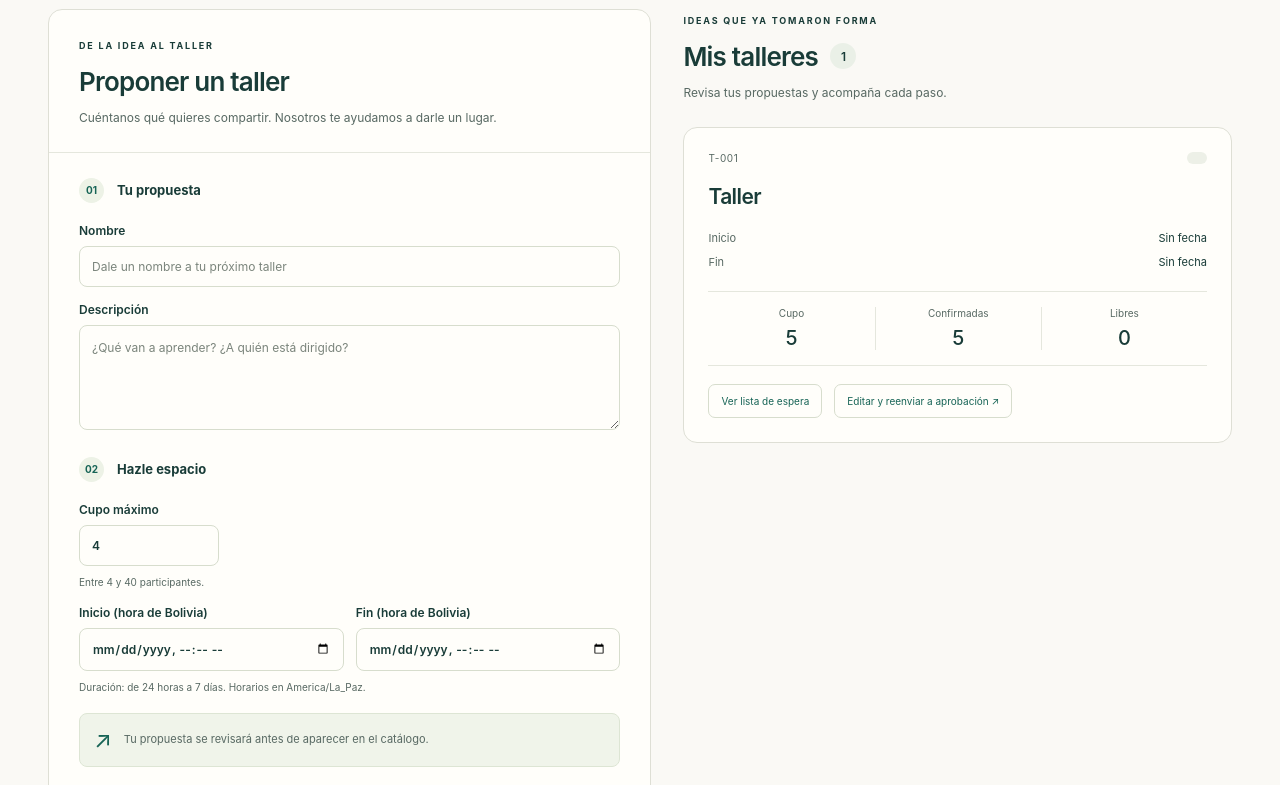
Test: instructor consulta participantes en espera de su taller
(page scrolled)
Click the button "Ver lista de espera" at coordinates (765, 400), box [708,384,822,418]
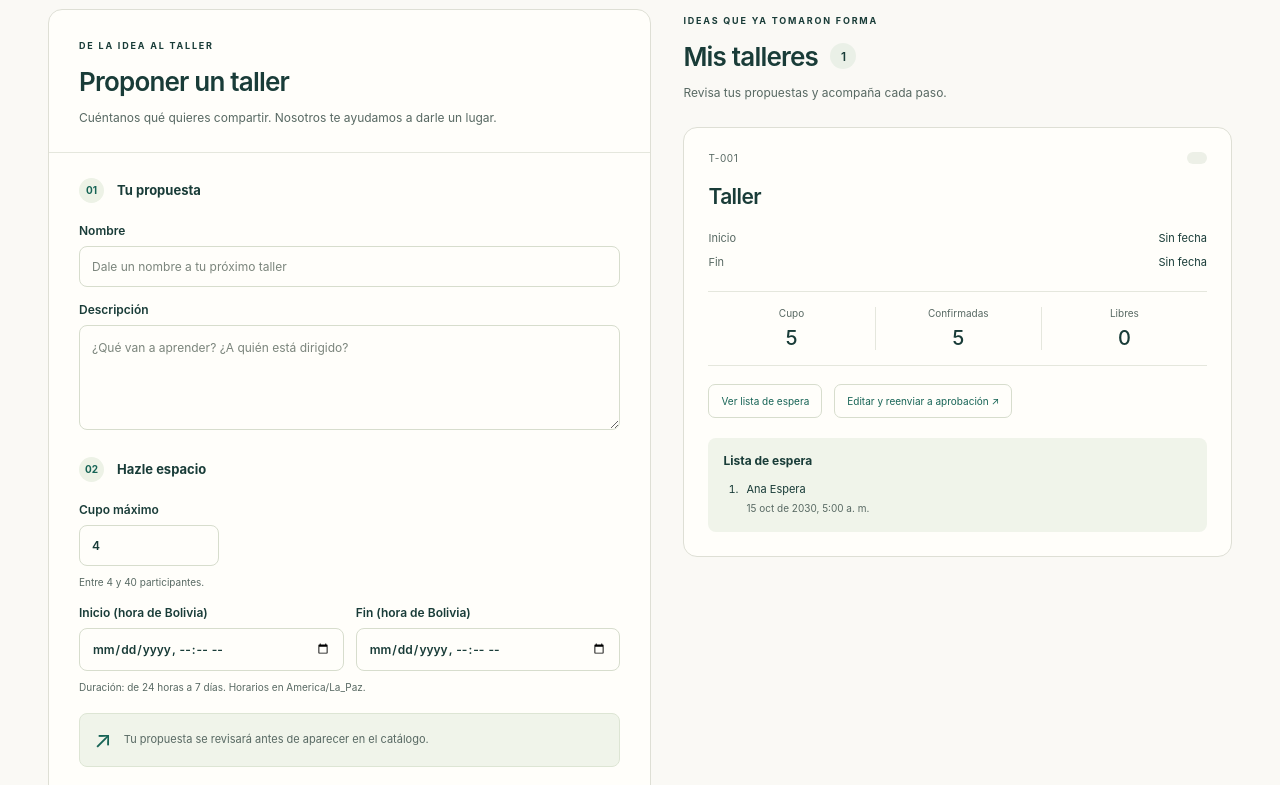
Expected: the text "Ana Espera" is shown, [746,482,806,496]
